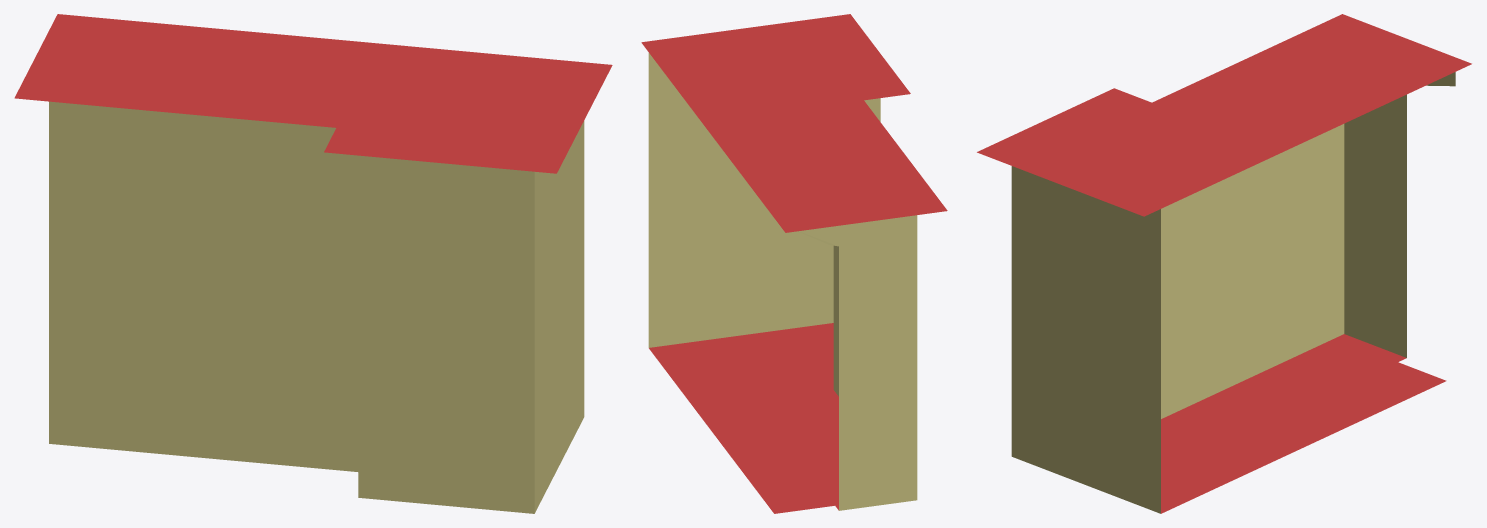
3 views of the same model, side by side, from view 1: azimuth 30°, elevation 25°; view 2: azimuth 150°, elevation 25°; view 3: azimuth 270°, elevation 25° (orthographic). The views are drawn at different scales.
Parts seen in each view (by area): view 1: group_5, group_3, group_4; view 2: group_5, group_3, group_6, group_4; view 3: group_5, group_3, group_6, group_4.
Part boxes in pixels (bbox=[...]): group_5: bbox=[49, 101, 584, 513]; group_3: bbox=[14, 14, 612, 173]; group_4: bbox=[342, 63, 611, 172]; group_5: bbox=[648, 52, 917, 510]; group_3: bbox=[641, 14, 947, 232]; group_6: bbox=[649, 323, 838, 513]; group_4: bbox=[642, 15, 908, 91]; group_5: bbox=[1011, 72, 1455, 513]; group_3: bbox=[977, 14, 1471, 216]; group_6: bbox=[1161, 334, 1446, 513]; group_4: bbox=[980, 90, 1159, 216].
Size of the model in its own units: 9.59 by 9.92 by 6.73.
